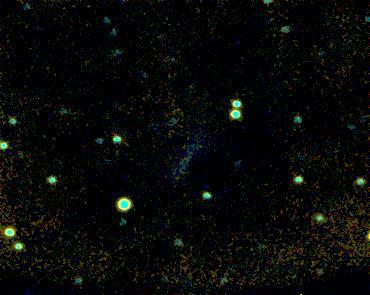star: (350, 222, 370, 252)
